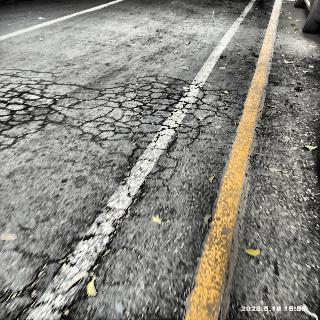alligator-crack: (90, 71, 226, 167), (0, 68, 65, 150)
